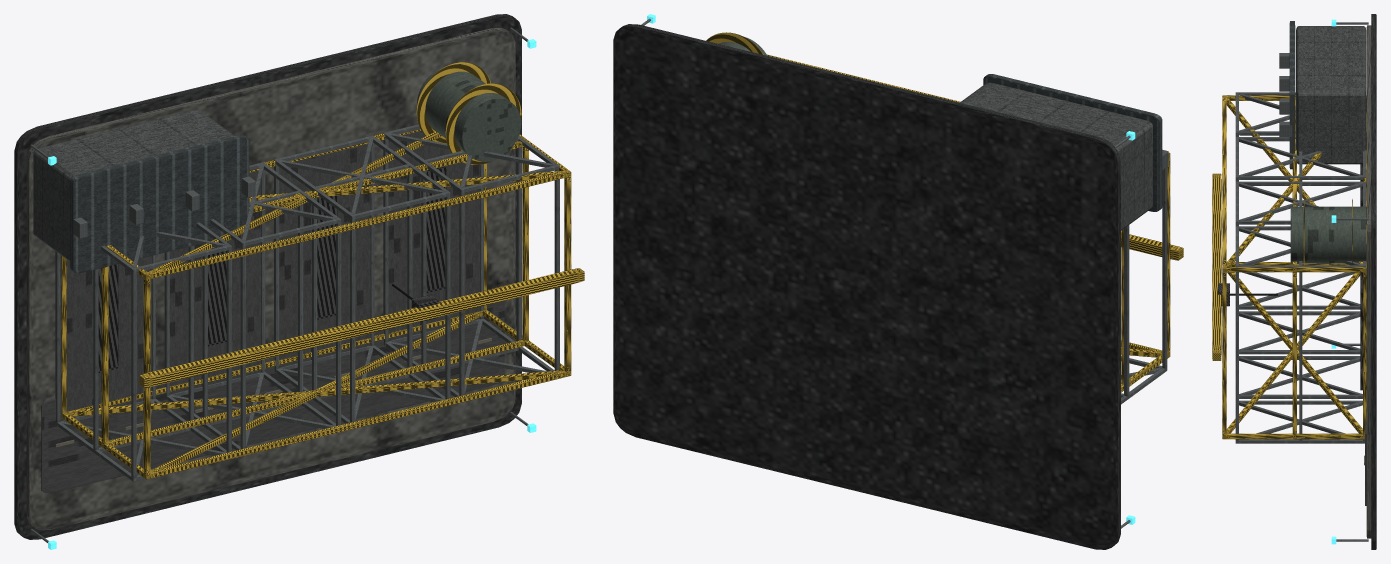
Rendered from b-16-vehicle-depot-lod0.glb.
3 views of the same model, side by side, from view 1: azimuth 30°, elevation 25°; view 2: azimuth 150°, elevation 25°; view 3: azimuth 270°, elevation 25° (orthographic). The views are drawn at different scales.
Visible parts, largest first — view 1: foundation_inner_pad, foundation, service_lane_road, workshop_roof, workshop_main_hall, service_bay_floor_2, service_bay_floor_3, service_bay_floor_0, service_crane_bridge, service_bay_floor_1, fuel_tank_vessel, service_crane_beam_x_2_n (+43 smaller); view 2: foundation, workshop_main_hall, workshop_roof, service_bay_frame_0_beam_y_2_w, service_bay_frame_0_beam_y_1_w, service_crane_beam_y_2_w, service_crane_bridge; view 3: workshop_main_hall, fuel_tank_vessel, foundation, foundation_inner_pad, service_crane_bridge, service_crane_brace_a_-3.4, service_crane_brace_b_-3.4, service_crane_column_e_s, workshop_roof, service_crane_beam_x_2_n, service_crane_beam_y_2_e, service_crane_column_e_n (+37 smaller).
Boxes of the visible parts, box(x1,y1,x2,y2) form: foundation_inner_pad: box(26, 27, 515, 530); foundation: box(14, 14, 521, 539); service_lane_road: box(41, 301, 504, 492); workshop_roof: box(70, 135, 249, 273); workshop_main_hall: box(33, 110, 234, 261); service_bay_floor_2: box(279, 144, 370, 367); service_bay_floor_3: box(388, 131, 479, 340); service_bay_floor_0: box(60, 255, 151, 420); service_crane_bridge: box(139, 268, 584, 387); service_bay_floor_1: box(170, 170, 261, 394); fuel_tank_vessel: box(417, 66, 521, 161); service_crane_beam_x_2_n: box(144, 171, 571, 279); foundation: box(613, 24, 1120, 549); workshop_main_hall: box(960, 82, 1152, 230); workshop_roof: box(983, 74, 1162, 211); service_bay_frame_0_beam_y_2_w: box(1162, 167, 1167, 369); service_bay_frame_0_beam_y_1_w: box(1124, 225, 1129, 396); service_crane_beam_y_2_w: box(1167, 152, 1170, 354); service_crane_bridge: box(1121, 232, 1183, 260); workshop_main_hall: box(1296, 26, 1366, 164); fuel_tank_vessel: box(1290, 206, 1366, 263); foundation: box(1371, 14, 1376, 549); foundation_inner_pad: box(1366, 25, 1371, 538); service_crane_bridge: box(1212, 173, 1221, 360); service_crane_brace_a_-3.4: box(1226, 272, 1360, 433); service_crane_brace_b_-3.4: box(1227, 272, 1362, 433); service_crane_column_e_s: box(1226, 433, 1363, 439); workshop_roof: box(1289, 21, 1295, 169); service_crane_beam_x_2_n: box(1222, 96, 1226, 272); service_crane_beam_y_2_e: box(1222, 267, 1226, 438); service_crane_column_e_n: box(1226, 267, 1363, 272).
Size of what is drawn, in the model's own units: 18 by 14 by 6.07.
12 materials, 12 textured.
